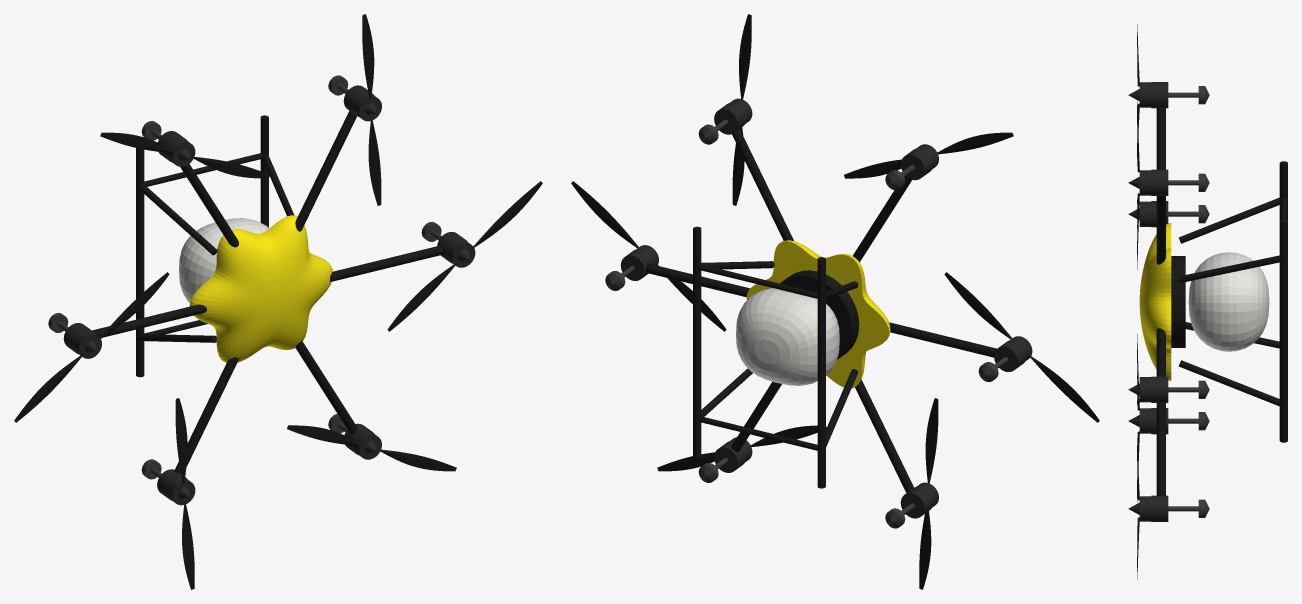
Rendered from Realistic_Agricultural_Hexacopter.obj.
3 views of the same model, side by side, from view 1: azimuth 30°, elevation 25°; view 2: azimuth 150°, elevation 25°; view 3: azimuth 270°, elevation 25° (orthographic). The views are drawn at different scales.
Visible parts, largest first — view 1: Carbon_Fiber_Black, Yellow_Gloss_Canopy, Motor_Metal_Dark, White_Translucent_Tank, Atomizer_Nozzle; view 2: Carbon_Fiber_Black, White_Translucent_Tank, Motor_Metal_Dark, Yellow_Gloss_Canopy, Atomizer_Nozzle; view 3: Carbon_Fiber_Black, White_Translucent_Tank, Motor_Metal_Dark, Yellow_Gloss_Canopy, Atomizer_Nozzle.
Part boxes in pixels (x1,y1,x2,y2): Carbon_Fiber_Black: (14, 14, 542, 589); Yellow_Gloss_Canopy: (189, 215, 332, 362); Motor_Metal_Dark: (63, 85, 475, 505); White_Translucent_Tank: (179, 218, 268, 302); Atomizer_Nozzle: (48, 75, 441, 479); Carbon_Fiber_Black: (571, 14, 1099, 589); White_Translucent_Tank: (736, 288, 839, 385); Motor_Metal_Dark: (620, 98, 1032, 518); Yellow_Gloss_Canopy: (746, 240, 890, 388); Atomizer_Nozzle: (605, 119, 1008, 528); Carbon_Fiber_Black: (1137, 24, 1287, 579); White_Translucent_Tank: (1188, 252, 1269, 351); Motor_Metal_Dark: (1128, 82, 1168, 521); Yellow_Gloss_Canopy: (1139, 223, 1171, 380); Atomizer_Nozzle: (1168, 86, 1209, 517).
Size of the model in its own units: 2.04 by 1.97 by 0.554.
